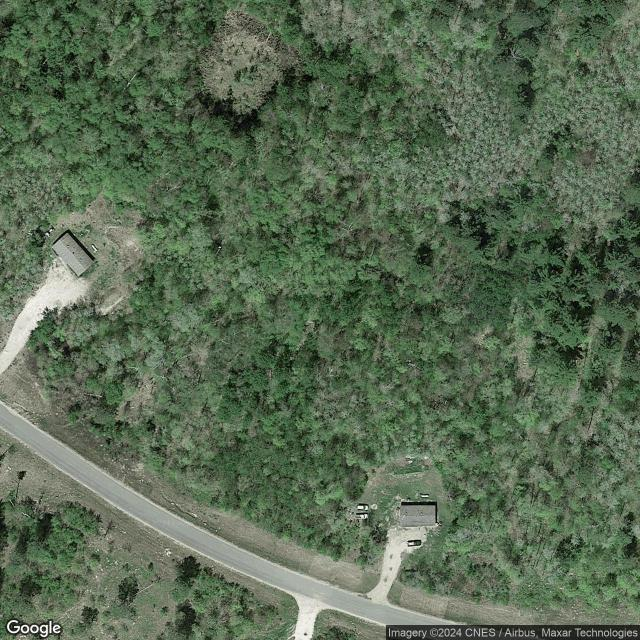Propane: (90, 243, 99, 252), (420, 494, 430, 498)
